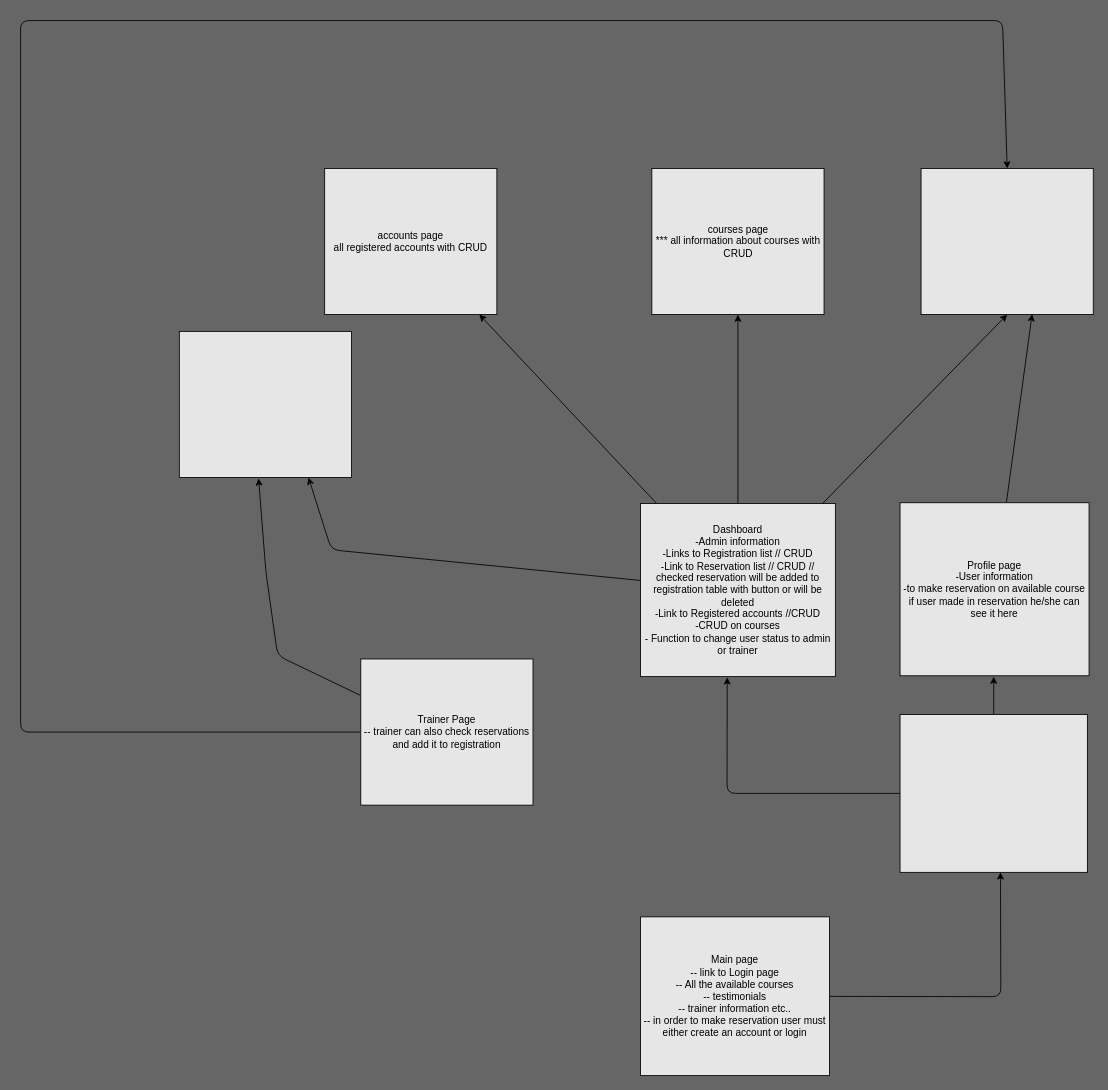
Image size: 1108x1090. Some labels were removed from this diagram. Each missing label, with the box of its shape:
Login Page -- link or button create account opion: (899, 714, 1087, 872)
Registration page Registeration list accepted reservations will be added here: (178, 331, 352, 478)
reservations page ***Reservation List to be checked: (920, 168, 1093, 315)
